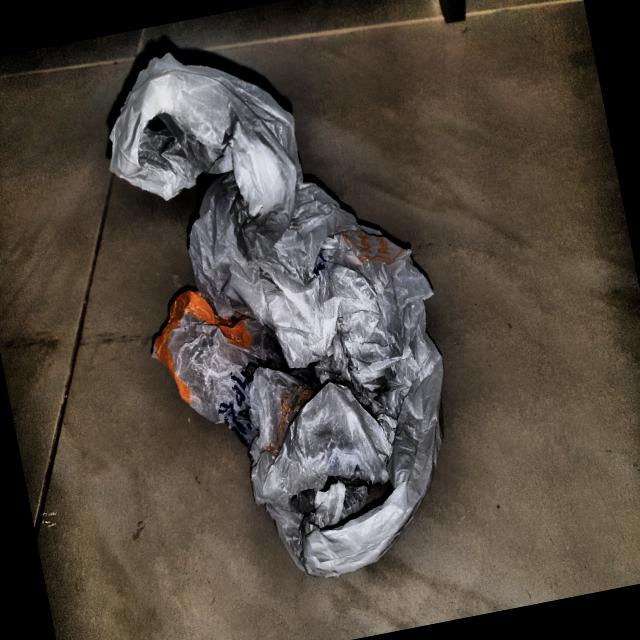plastic bag: (83, 1, 496, 616)
